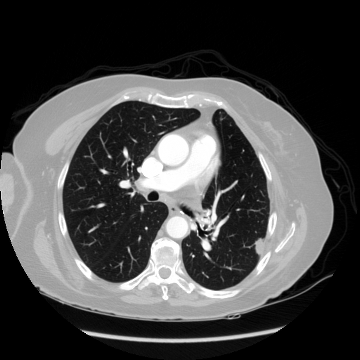nodule: (253, 240, 265, 252)
